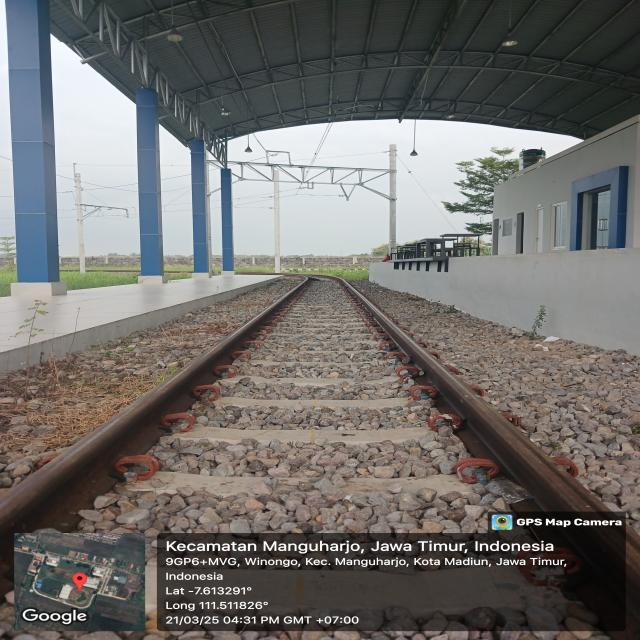rail-detection: (0, 280, 311, 568), (336, 280, 622, 522), (541, 521, 640, 633)
